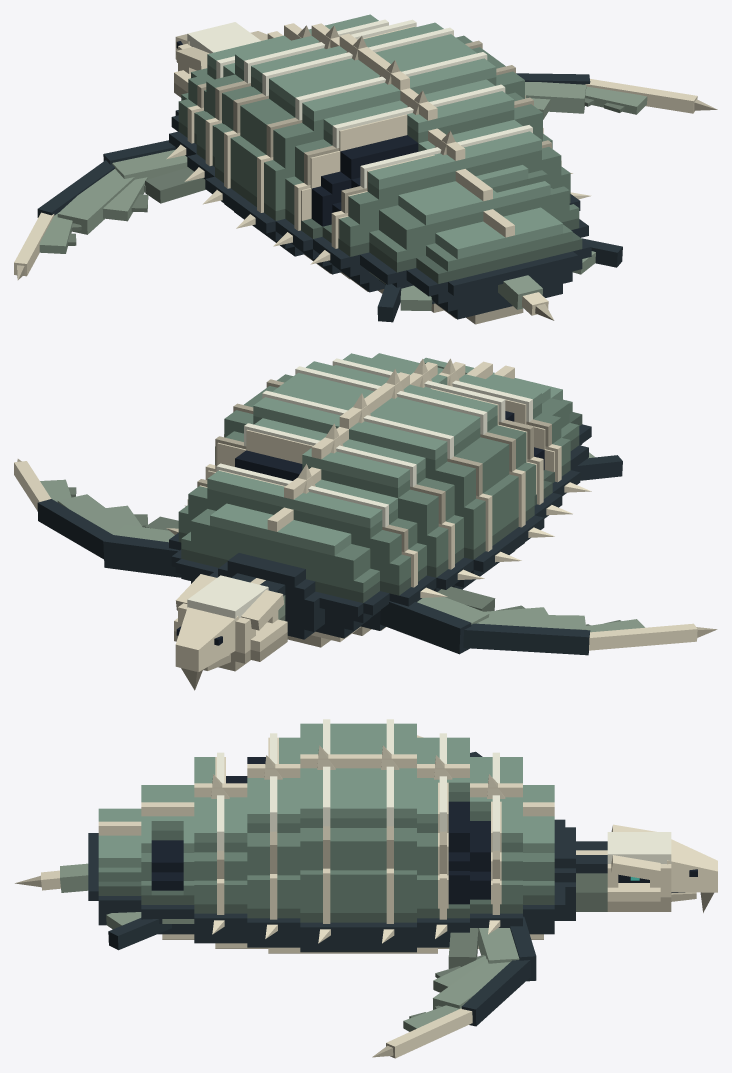
File: GraveTurtle.obj
The picture shows the model from 3 angles, top to bottom: view 1: azimuth 30°, elevation 25°; view 2: azimuth 150°, elevation 25°; view 3: azimuth 270°, elevation 25°; orthographic projection. The views are drawn at different scales.
Visible parts, largest first — view 1: Shell, WingL2, WingL1, Head, WingR3, WingR2, WingL3, Tail, FlipBL, FlipBR; view 2: Shell, Head, WingL2, WingL1, WingR2, WingR1, WingL3, WingR3, FlipBL; view 3: Shell, Head, WingR2, WingR1, WingR3, FlipBR, Tail.
Part boxes in pixels (x1,y1,x2,y2): Shell: (166,14,591,324); WingL2: (37,160,148,234); WingL1: (103,140,205,203); Head: (174,22,267,97); WingR3: (584,79,717,114); WingR2: (516,73,590,119); WingL3: (14,212,81,280); Tail: (498,275,554,320); FlipBL: (377,284,432,322); FlipBR: (572,238,622,274); Shell: (166,353,591,647); Head: (174,573,287,690); WingL2: (463,605,590,655); WingL1: (380,586,495,654); WingR2: (37,494,147,559); WingR1: (103,516,181,577); WingL3: (586,619,717,650); WingR3: (14,459,76,510); FlipBL: (572,452,622,480); Shell: (88,719,575,953); Head: (576,824,717,912); WingR2: (433,955,530,1026); WingR1: (448,916,536,981); WingR3: (372,1005,472,1058); FlipBR: (106,912,171,950); Tail: (15,863,88,892).
Bounding box in the file's own units: 32.87 × 8.19 × 29.88.
1 material, 1 textured.
